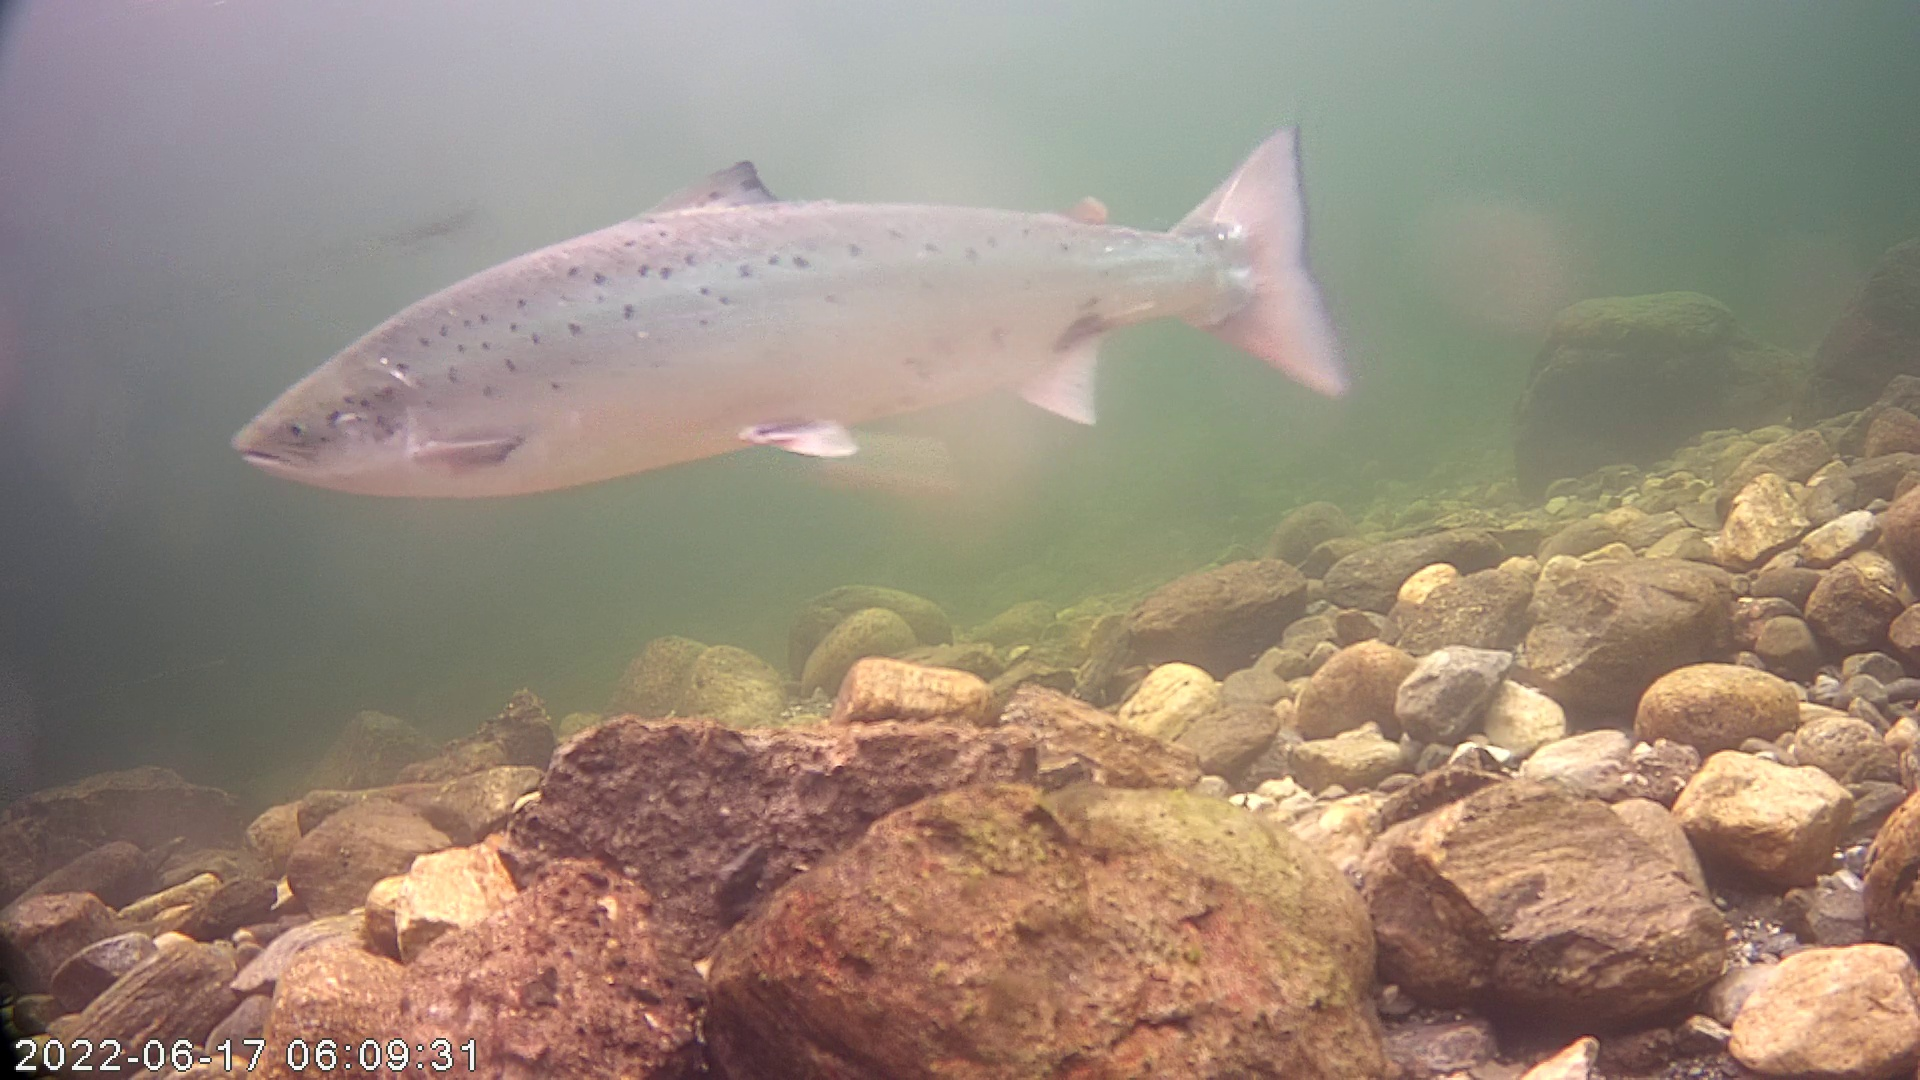salmon: (229, 116, 1353, 506)
